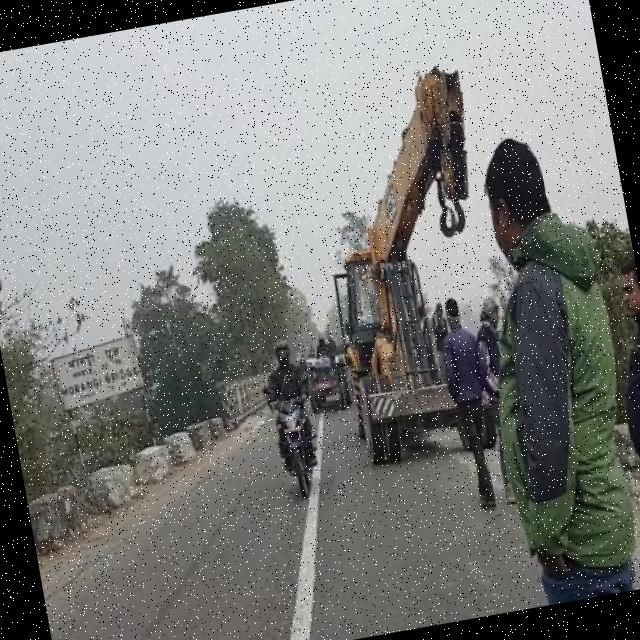Mobile Crane: (282, 68, 504, 464)
